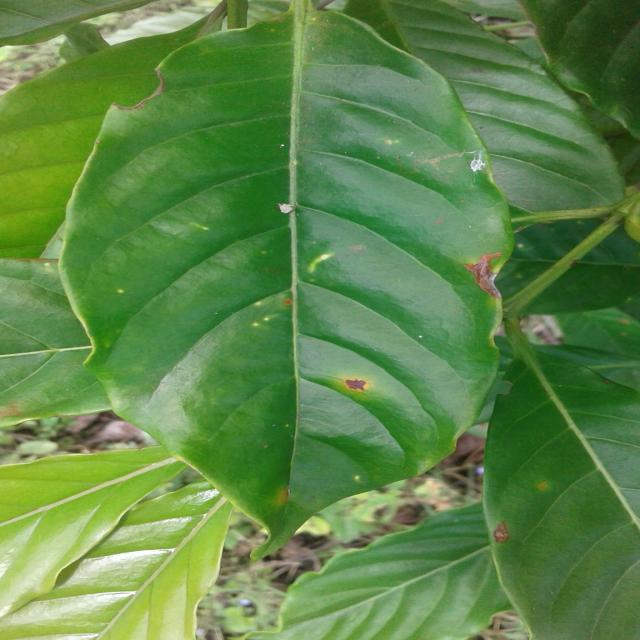Enfermedad-Roya: (59, 0, 512, 555)
